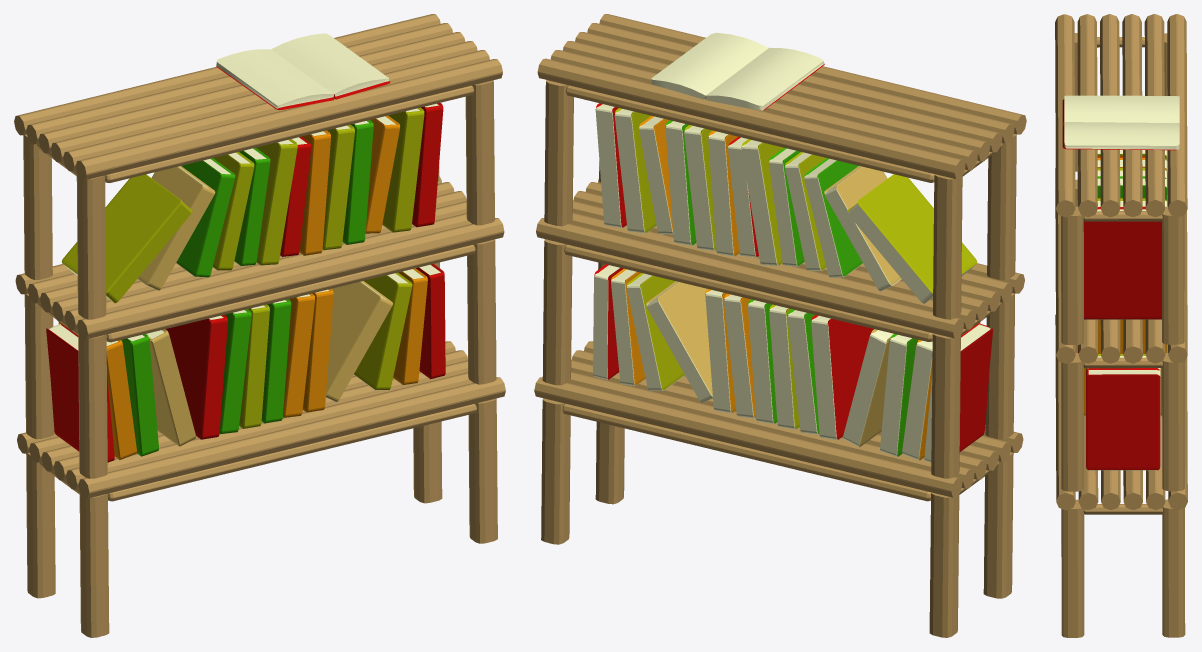
File: 木の棚1.fbx
3 views of the same model, side by side, from view 1: azimuth 30°, elevation 25°; view 2: azimuth 150°, elevation 25°; view 3: azimuth 270°, elevation 25° (orthographic). The views are drawn at different scales.
Parts seen in each view (by area): view 1: tana, 本; view 2: tana, 本; view 3: tana, 本.
Boxes of the visible parts, x1,y1,x2,y2 form: tana: (14, 14, 505, 637); 本: (216, 33, 390, 110); tana: (534, 14, 1026, 637); 本: (651, 32, 824, 110); tana: (1055, 14, 1187, 637); 本: (1062, 95, 1179, 150).
Size of the model in its own units: 30.44 by 33.85 by 9.12.
